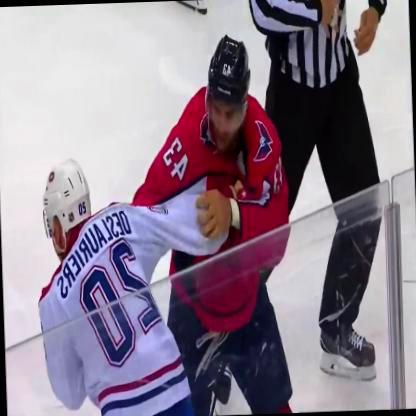voilence: (30, 36, 295, 408)
